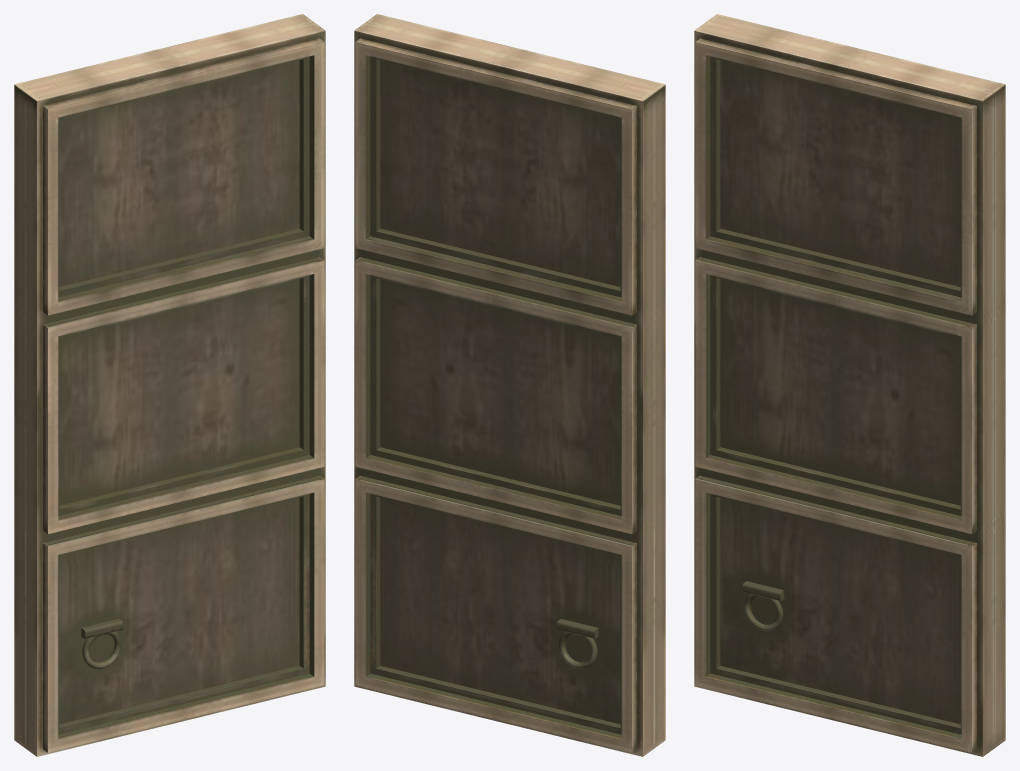
File: SM_door_right.glb
The picture shows the model from 3 angles, left to right: view 1: azimuth 30°, elevation 25°; view 2: azimuth 150°, elevation 25°; view 3: azimuth 330°, elevation 25°; orthographic projection.
Visible parts, largest first — view 1: SM_door_right; view 2: SM_door_right; view 3: SM_door_right.
Part boxes in pixels (box(x1,y1,x2,y2)): SM_door_right: box(14, 14, 325, 756); SM_door_right: box(354, 14, 665, 756); SM_door_right: box(694, 14, 1005, 756).
Bounding box in the file's own units: 2.53 × 5.49 × 0.4955.
Materials: 1 (1 with a texture image).
